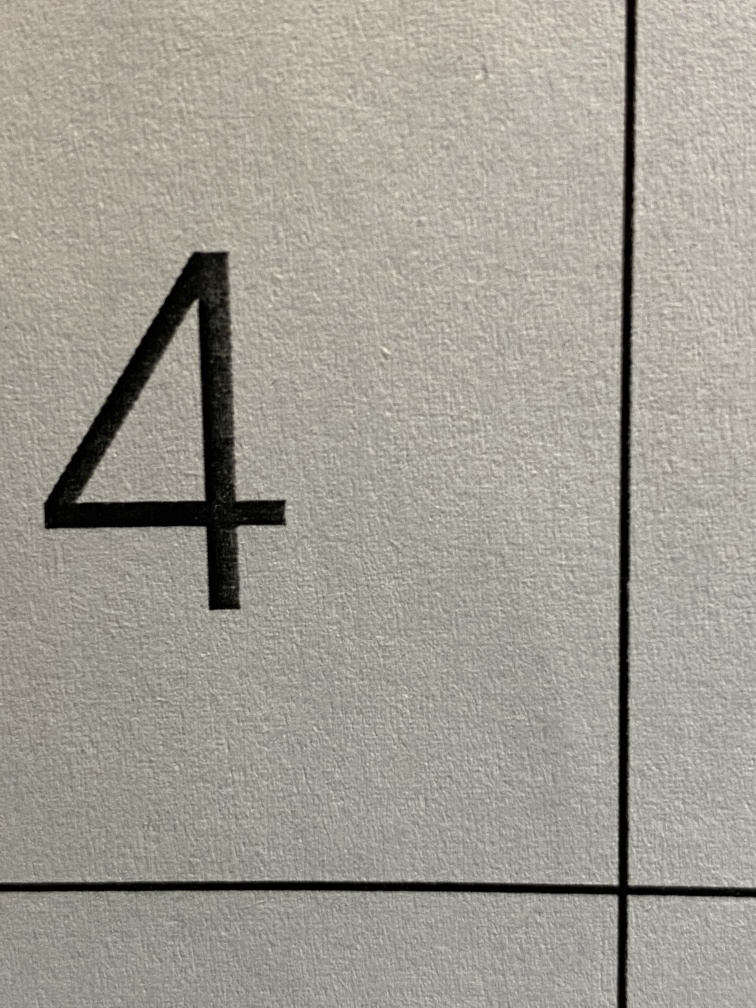four: (10, 192, 361, 678)
